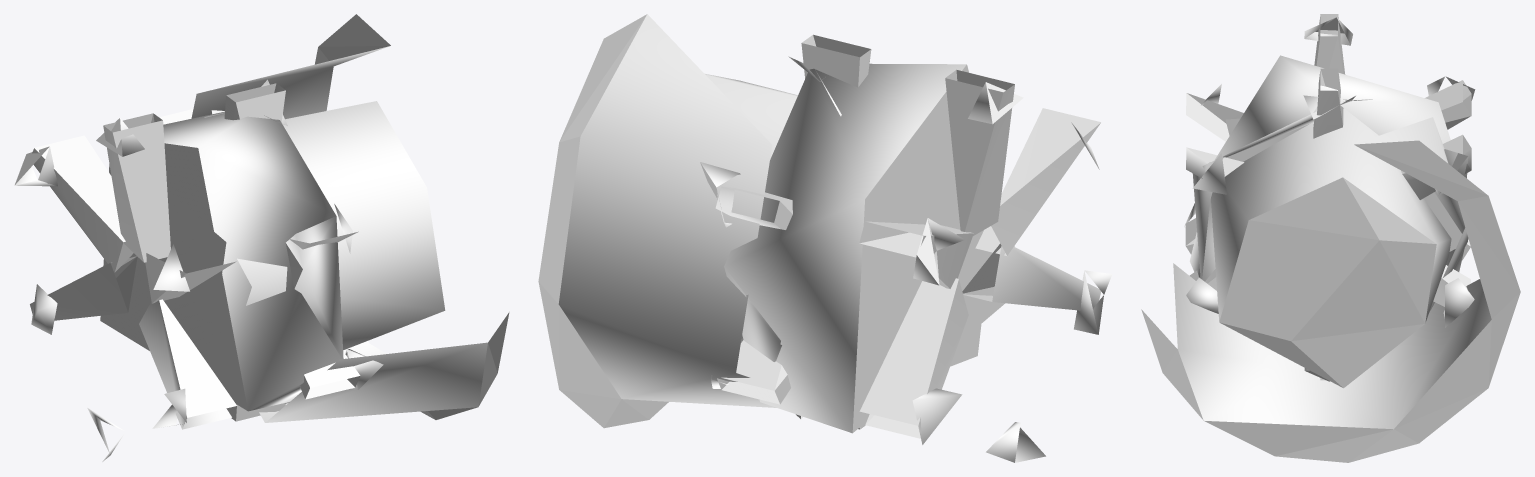
The picture shows the model from 3 angles, left to right: view 1: azimuth 30°, elevation 25°; view 2: azimuth 150°, elevation 25°; view 3: azimuth 270°, elevation 25°; orthographic projection. The views are drawn at different scales.
Bounding box in the file's own units: 0.6307 × 0.6681 × 0.7129.
Materials: 1 (1 with a texture image).
